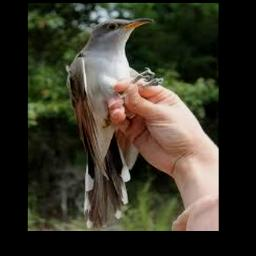Cuckoo: (66, 18, 160, 228)
